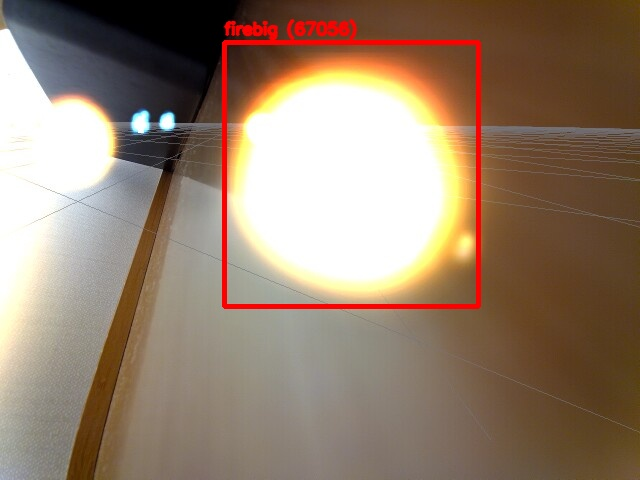firebig: (224, 42, 478, 306)
